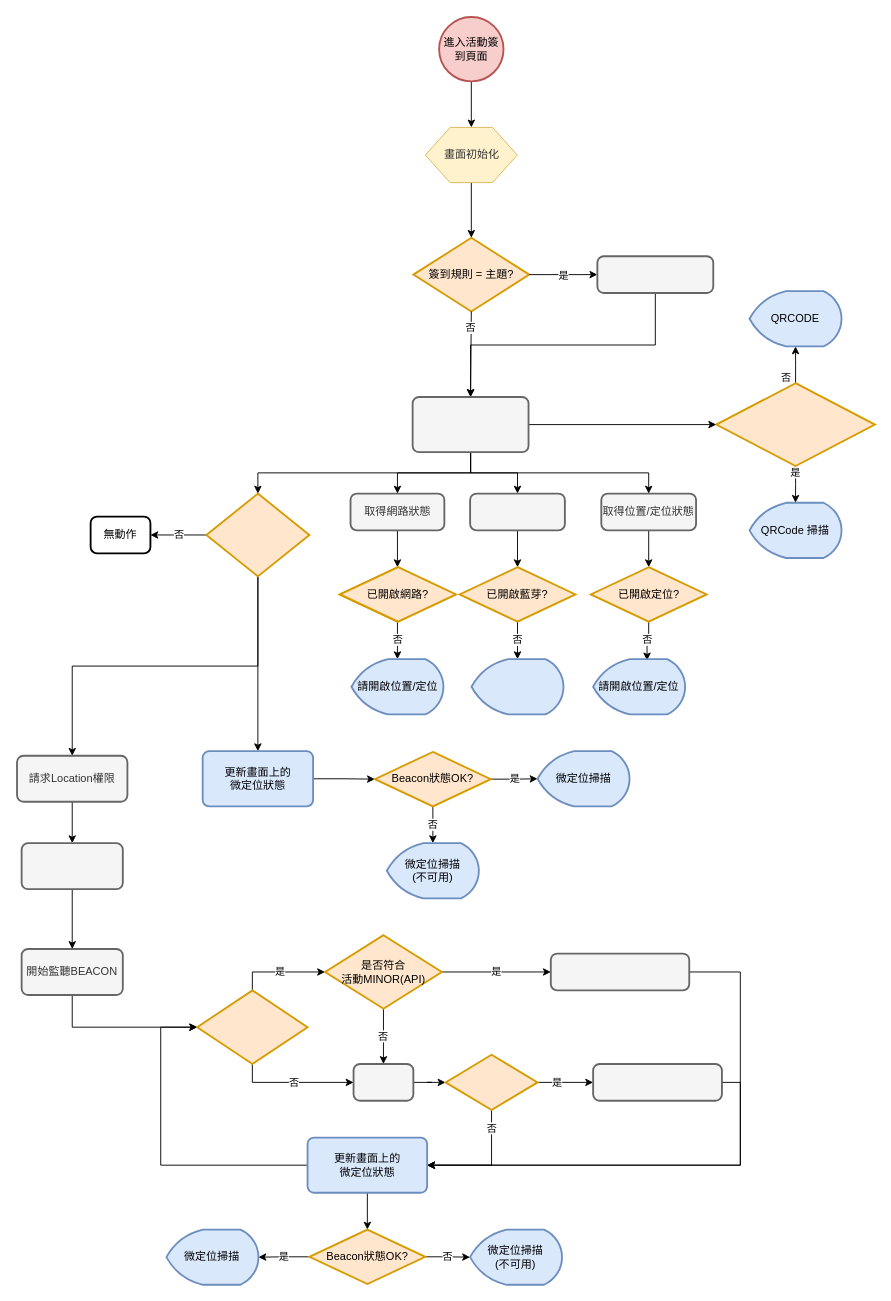
This 891x1301 diagram has some shape labels left out. The shapes that lost their labels are listed below. From the top down, each one's box as (x1, y1, x2, y2) in pixels, then its label:
(596, 255, 714, 293): 取得時程清單(API)
(411, 396, 529, 453): 更新畫面上的QRCODE
(715, 382, 875, 466): 是否取得QRCODE
(469, 492, 565, 531): 取得藍芽狀態
(205, 492, 310, 577): 活動MINOR(API) 是否存在
(470, 658, 564, 715): 請開啟藍芽
(20, 842, 123, 890): BEACON參數設定
(549, 952, 690, 991): 錯誤次數歸0 更新BEACON狀態 = OK
(196, 989, 308, 1064): 是否感應到的BEACON?
(352, 1063, 414, 1101): 錯誤次數+1
(444, 1053, 538, 1110): 錯誤次數 > 3
(592, 1063, 722, 1101): 更新BEACON狀態 = NG
